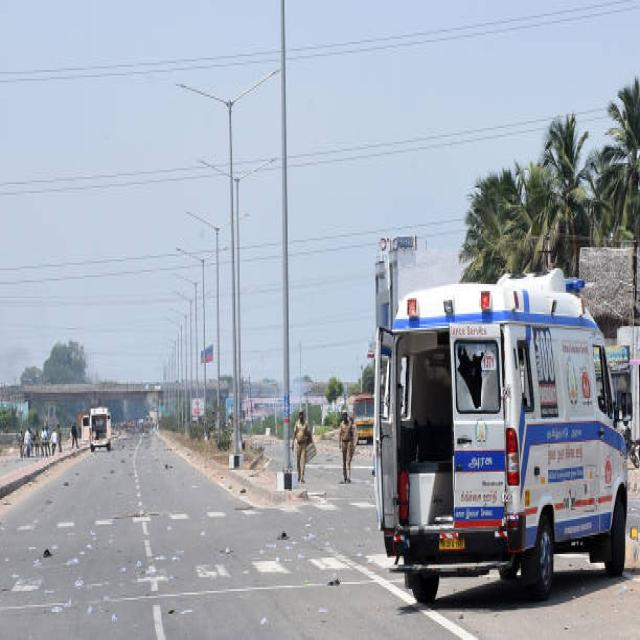ambulance: (373, 272, 629, 599)
